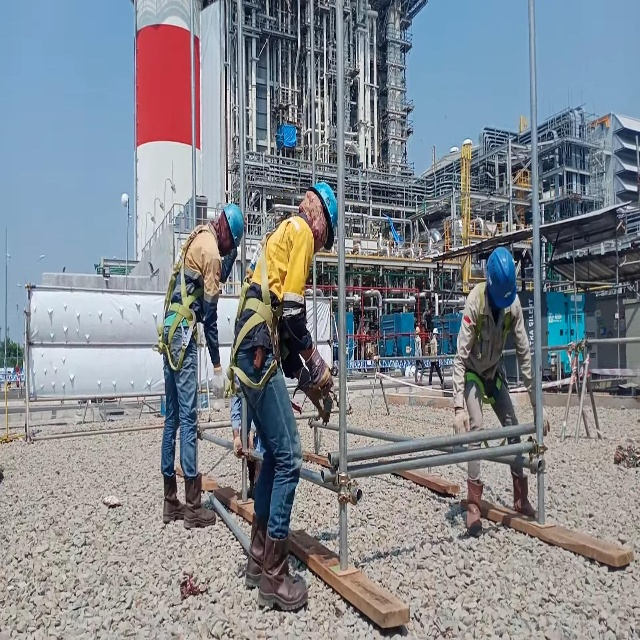Arnes_seguridad: (225, 208, 295, 403), (151, 212, 210, 373), (463, 281, 510, 406)
